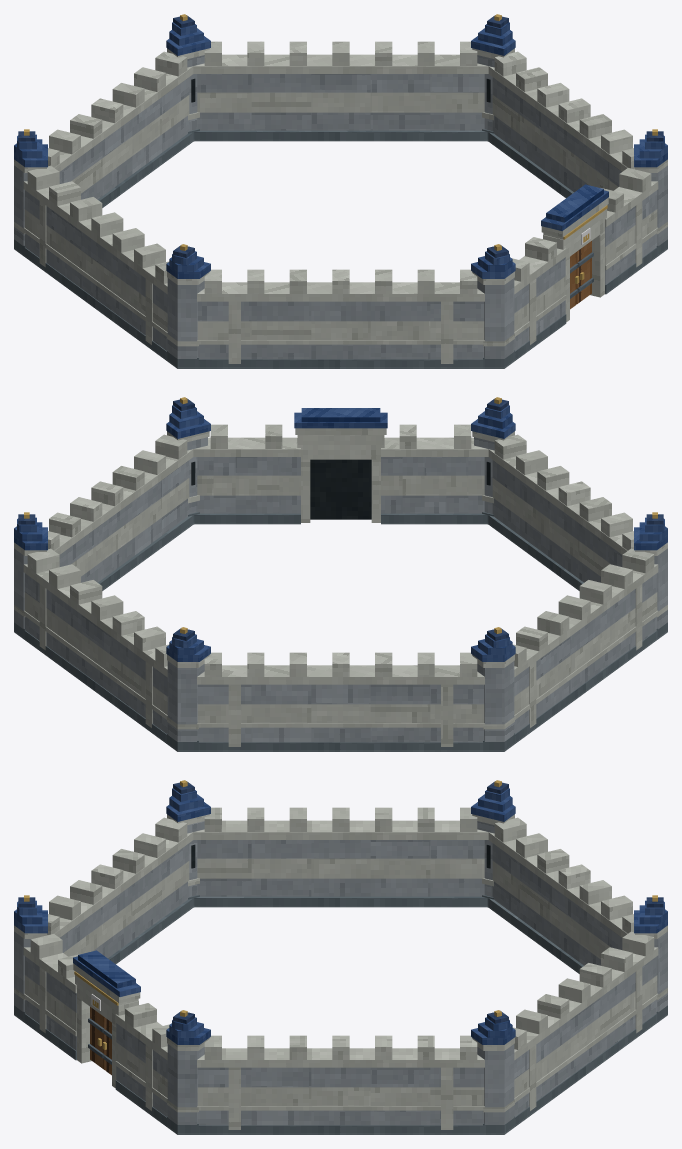
The model's file is human_walls_level_3_hex_v1.glb.
3 renders of one model, top to bottom at view 1: azimuth 30°, elevation 25°; view 2: azimuth 150°, elevation 25°; view 3: azimuth 270°, elevation 25°, orthographic.
Visible parts, largest first — view 1: Human_Walls_Level_3_Hex_V1_Architecture; view 2: Human_Walls_Level_3_Hex_V1_Architecture; view 3: Human_Walls_Level_3_Hex_V1_Architecture.
Boxes of the visible parts, x1,y1,x2,y2 form: Human_Walls_Level_3_Hex_V1_Architecture: [14, 14, 667, 368]; Human_Walls_Level_3_Hex_V1_Architecture: [14, 397, 667, 751]; Human_Walls_Level_3_Hex_V1_Architecture: [14, 780, 667, 1134].
Size of the model in its own units: 1.71 by 0.394 by 1.97.
1 material, 1 textured.
